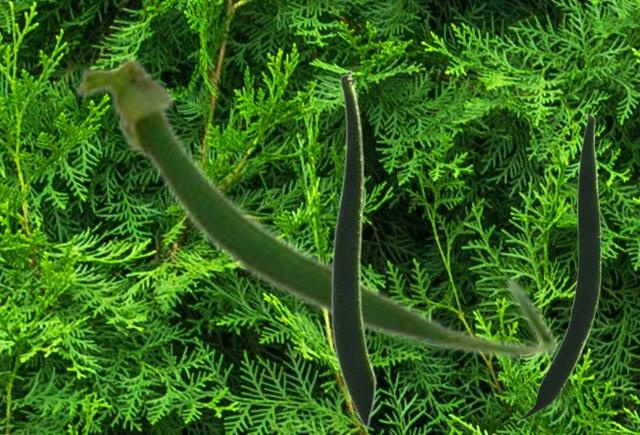french_bean: (71, 52, 561, 361), (515, 113, 600, 419), (330, 69, 376, 428)
